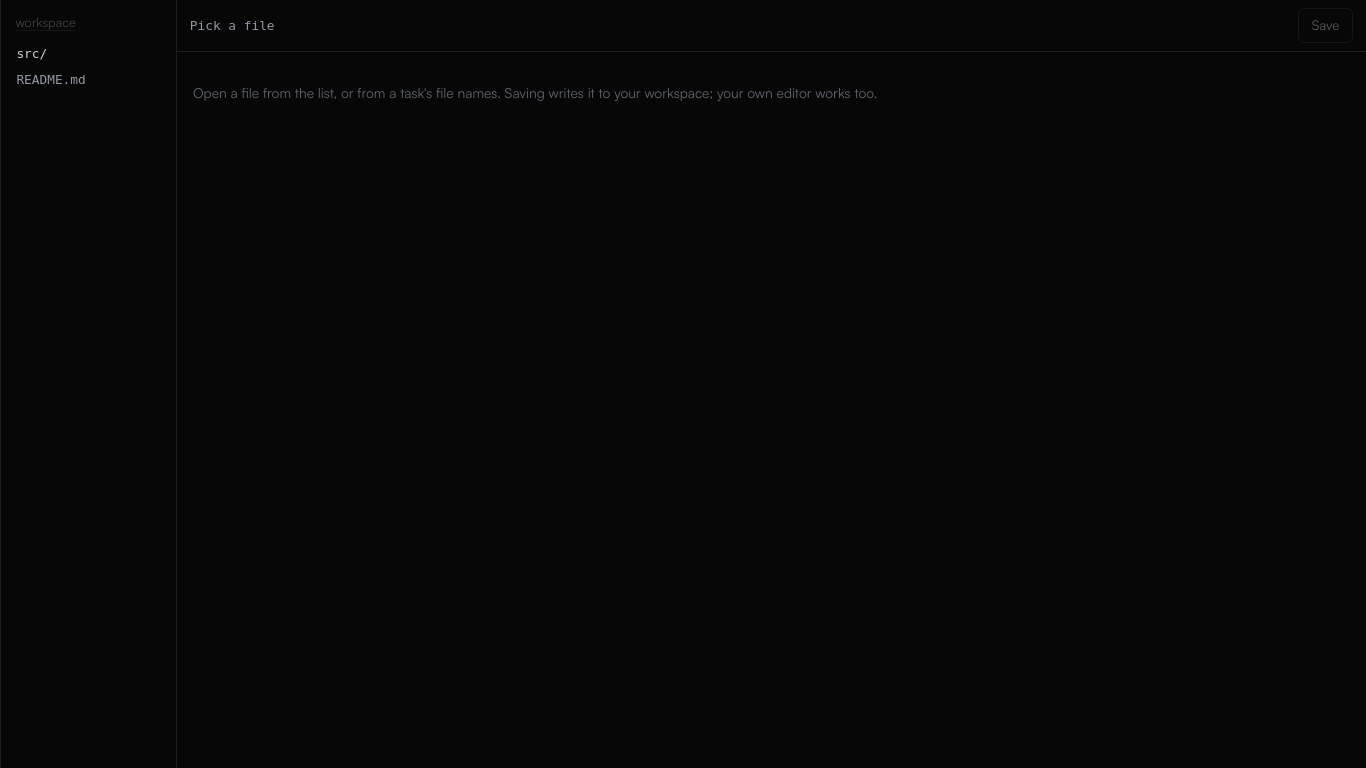
Test case: Editor › recreates a file deleted elsewhere on purpose, and reports other errors
This screenshot has width=1366, height=768.
Step 1. Click the button "README.md" → click(88, 80), box [7, 67, 170, 93]
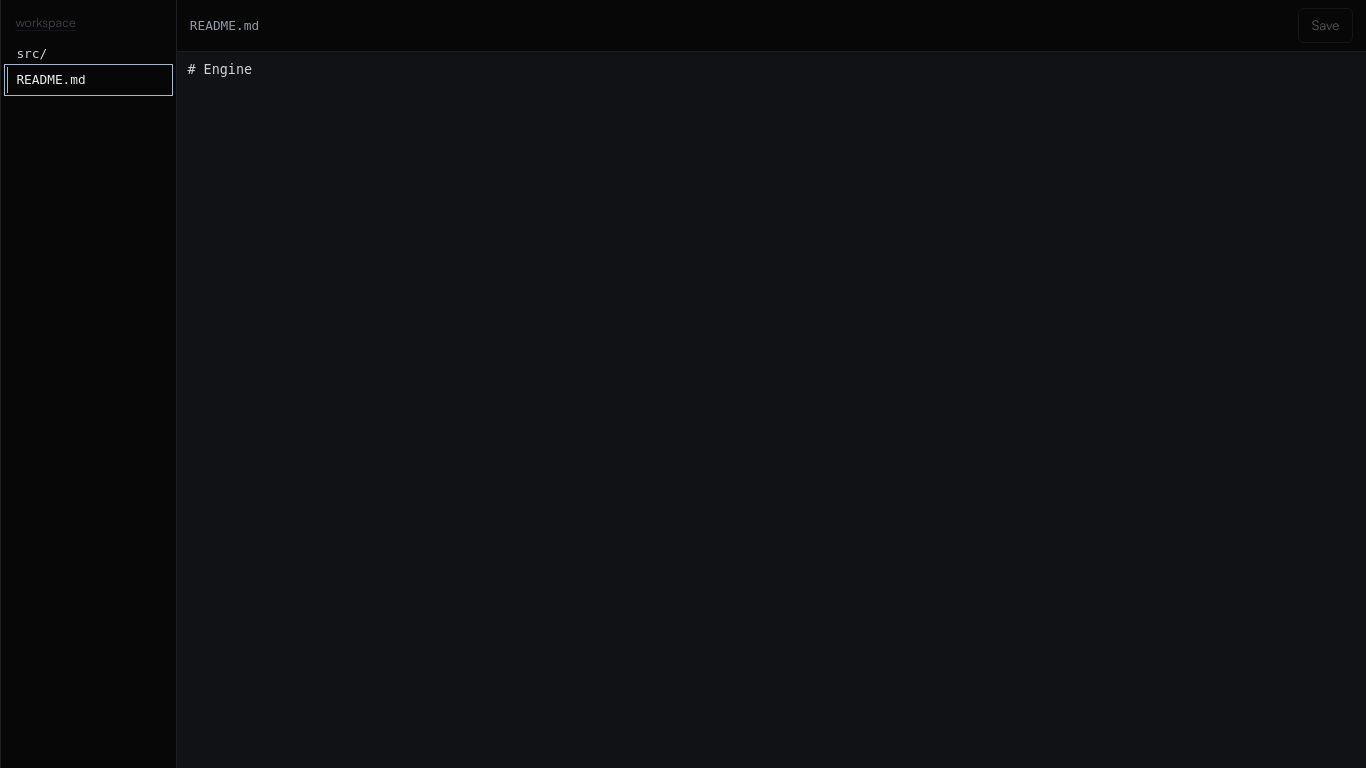
Step 2. Type "x" into the text box named "Editing README.md" → (772, 410), box [177, 52, 1365, 767]
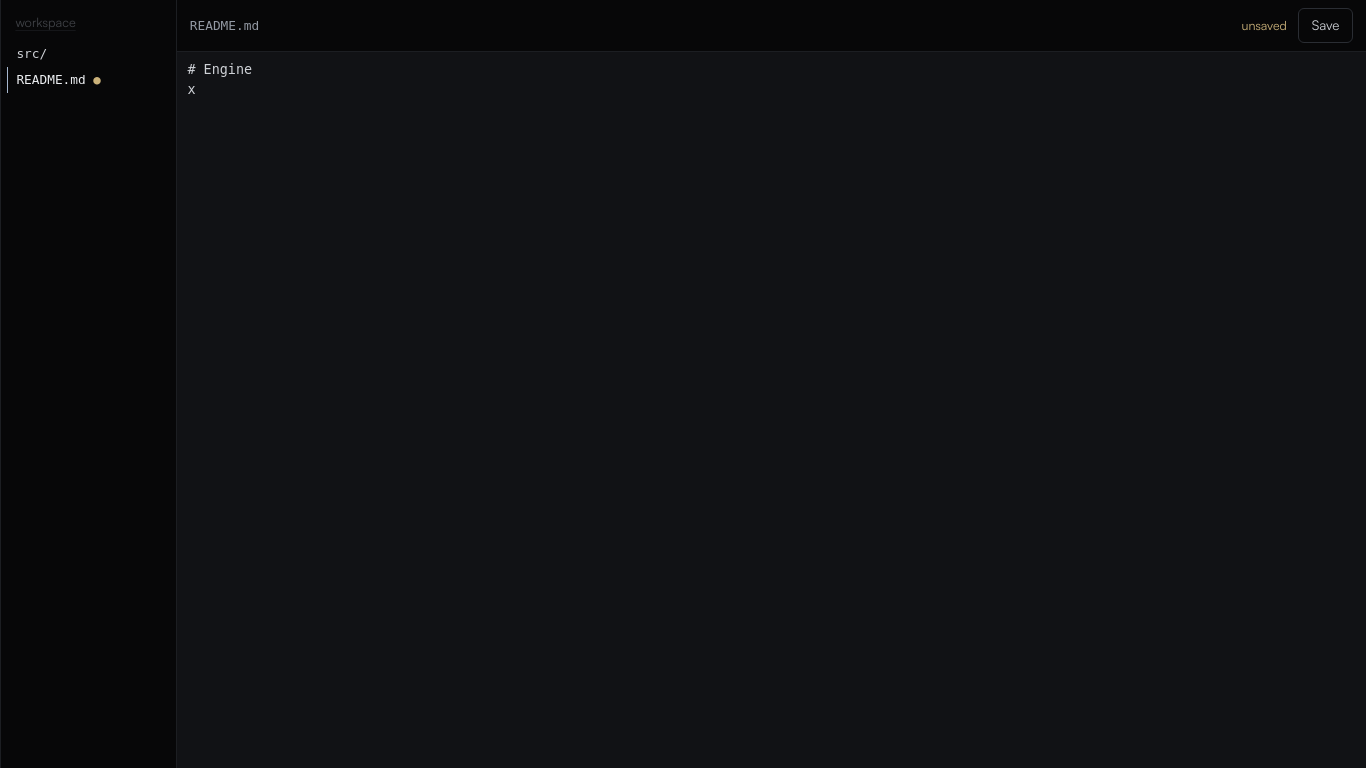
Step 3. Click the button "Save" → click(1326, 26), box [1298, 8, 1353, 43]
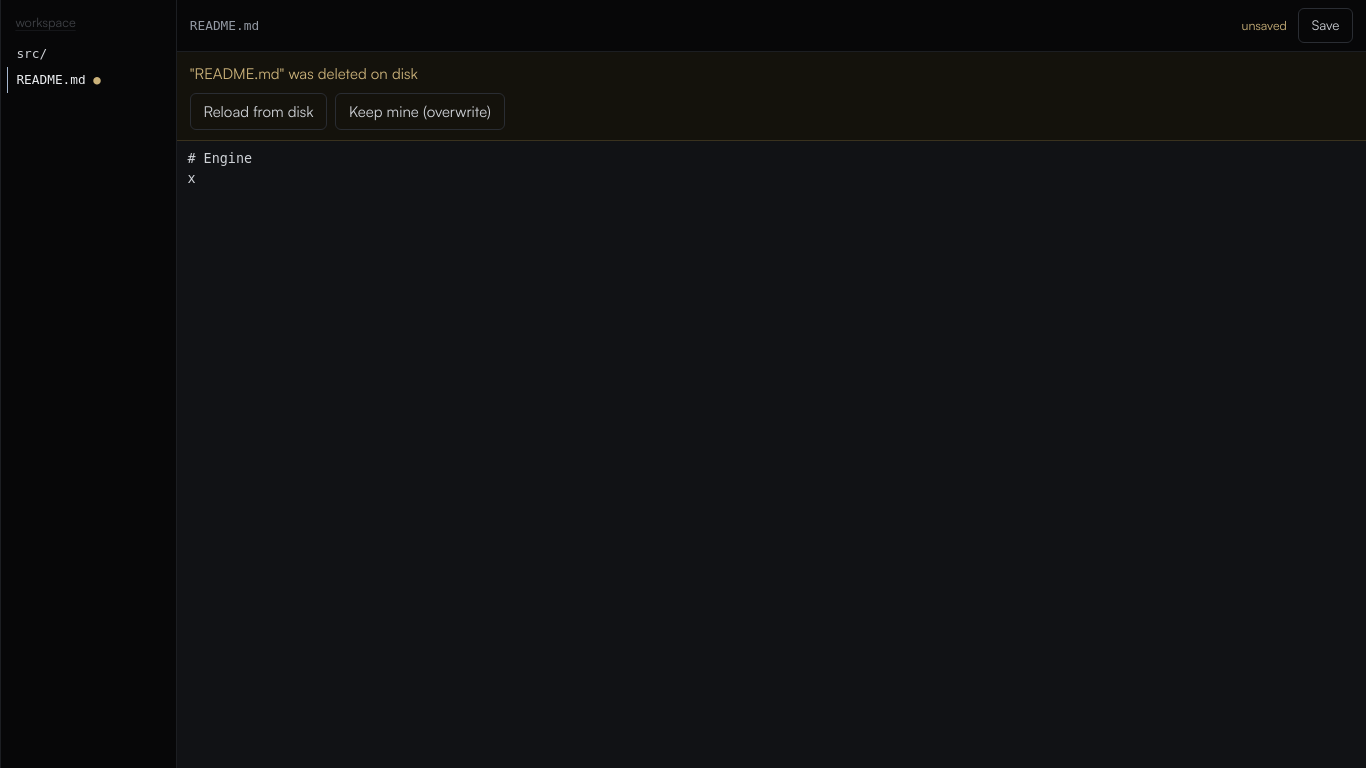
Step 4. Click the button "Keep mine (overwrite)" → click(420, 112), box [335, 93, 505, 130]
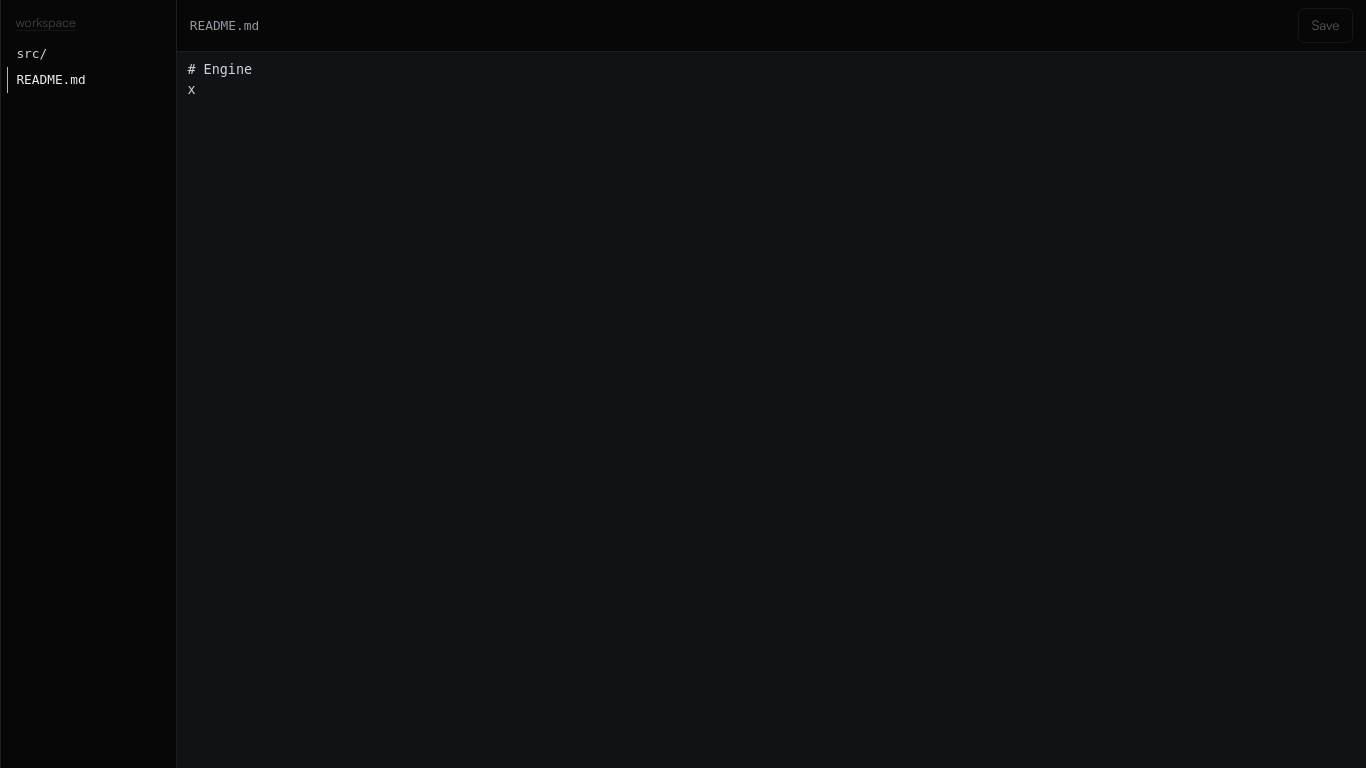
Step 5. Type "y" into the text box named "Editing README.md" → (772, 410), box [177, 52, 1365, 767]
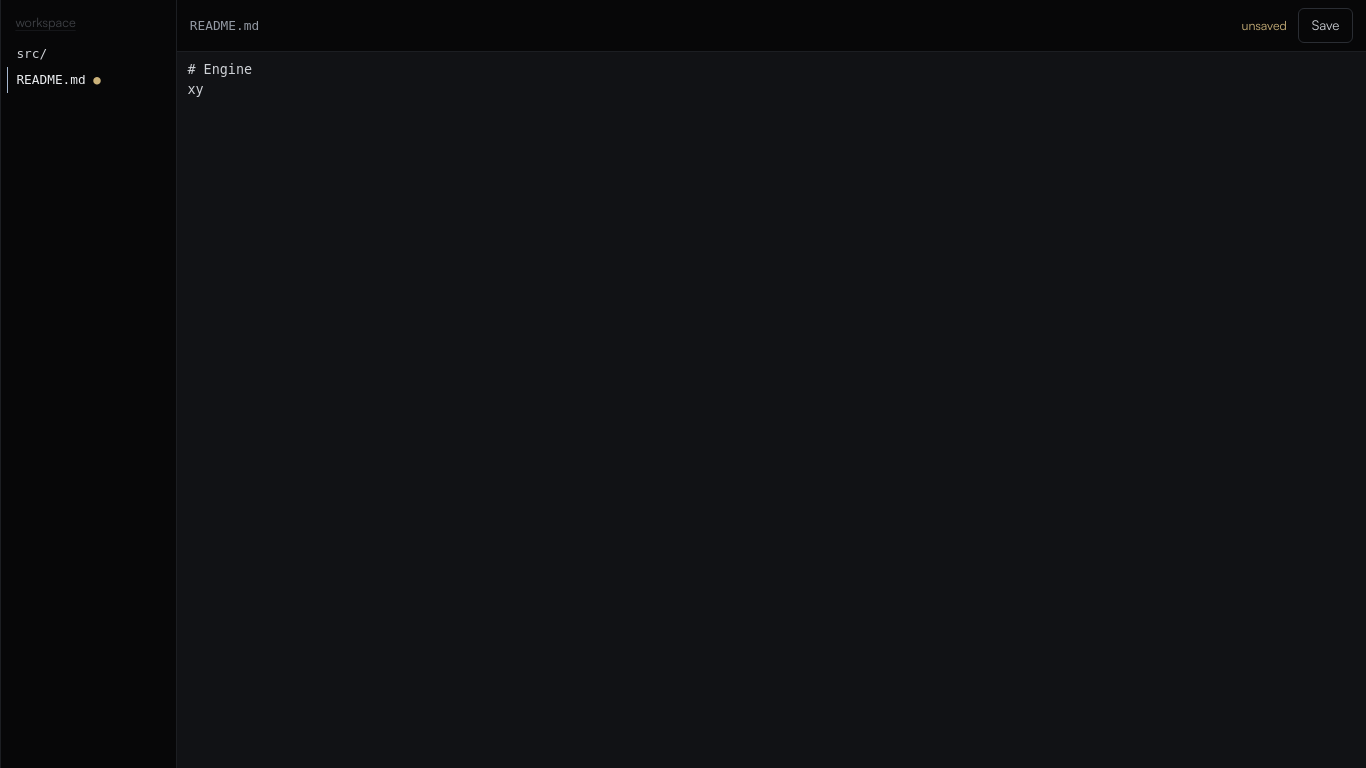
Step 6. Click the button "Save" → click(1326, 26), box [1298, 8, 1353, 43]
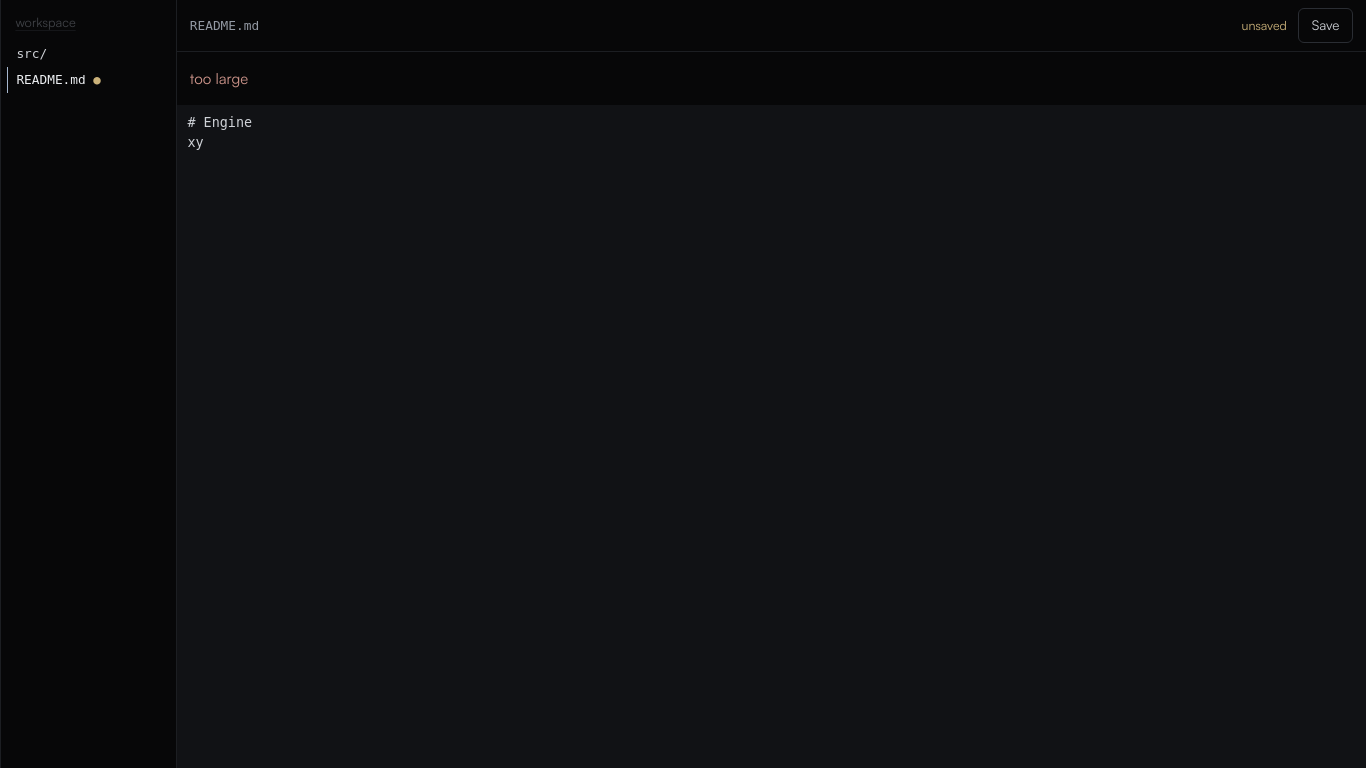
Now the message reads "too large", box [190, 69, 248, 88]
